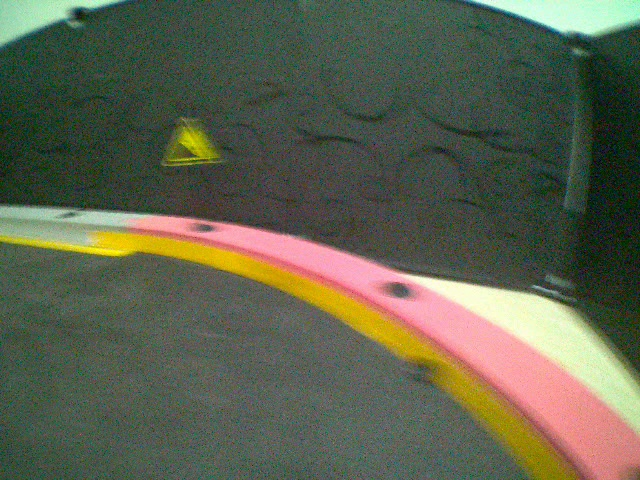fast: (159, 116, 222, 168)
